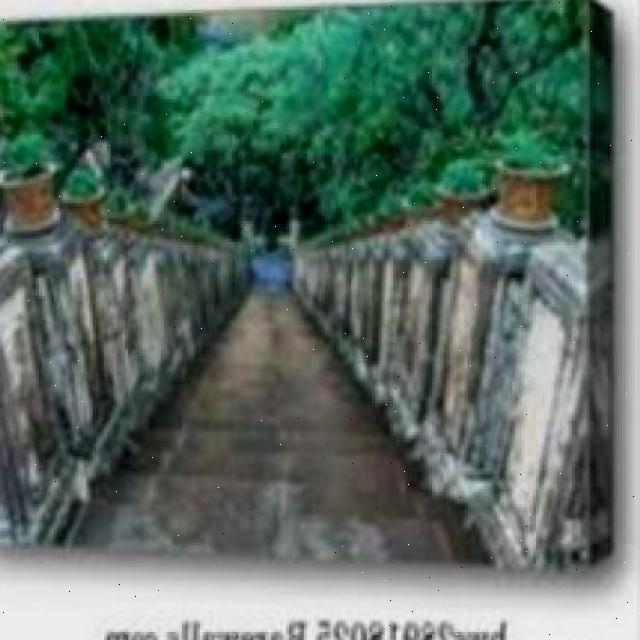stair: (89, 396, 421, 567)
